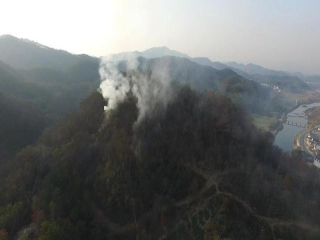smoke: (95, 47, 227, 141)
